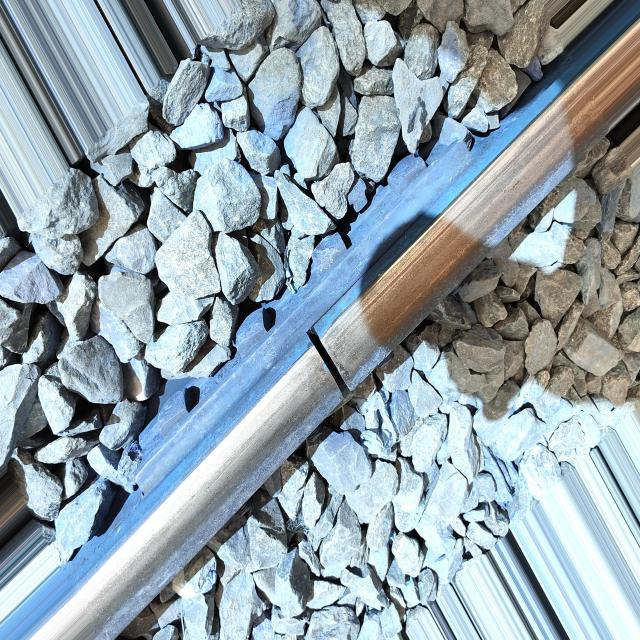crack: (298, 316, 369, 430)
